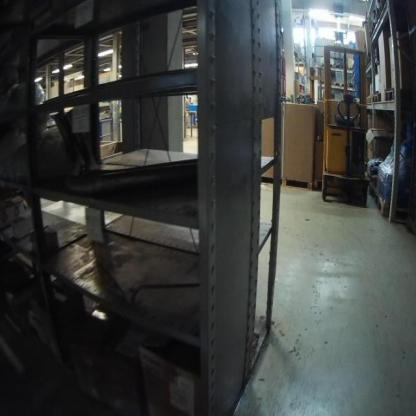pallet: (375, 193, 411, 221), (260, 175, 313, 190), (384, 88, 395, 101), (372, 91, 380, 104), (335, 82, 346, 88)
pallet_truck: (324, 44, 369, 210)
